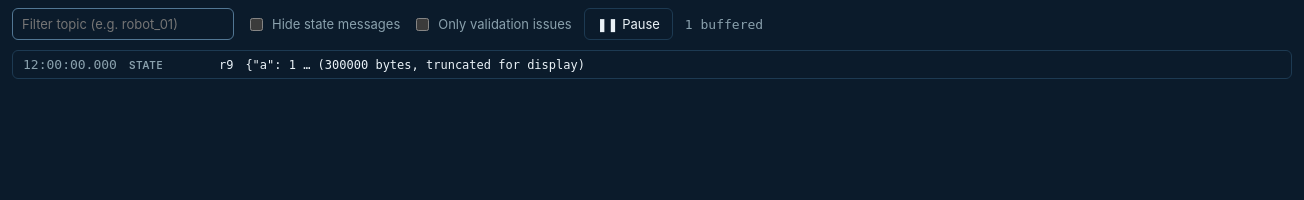
Scenario: shortened messages › point to the recording for the whole message
Click the button "state": (70, 64) [13, 51, 1291, 78]
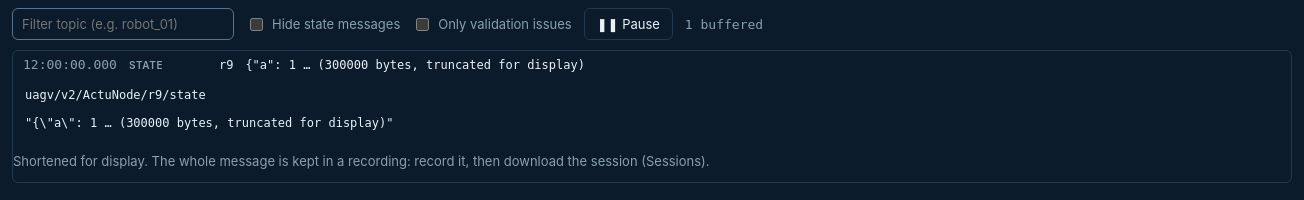
Now the text "whole message is kept in a recording" is shown, box [13, 153, 710, 169]
